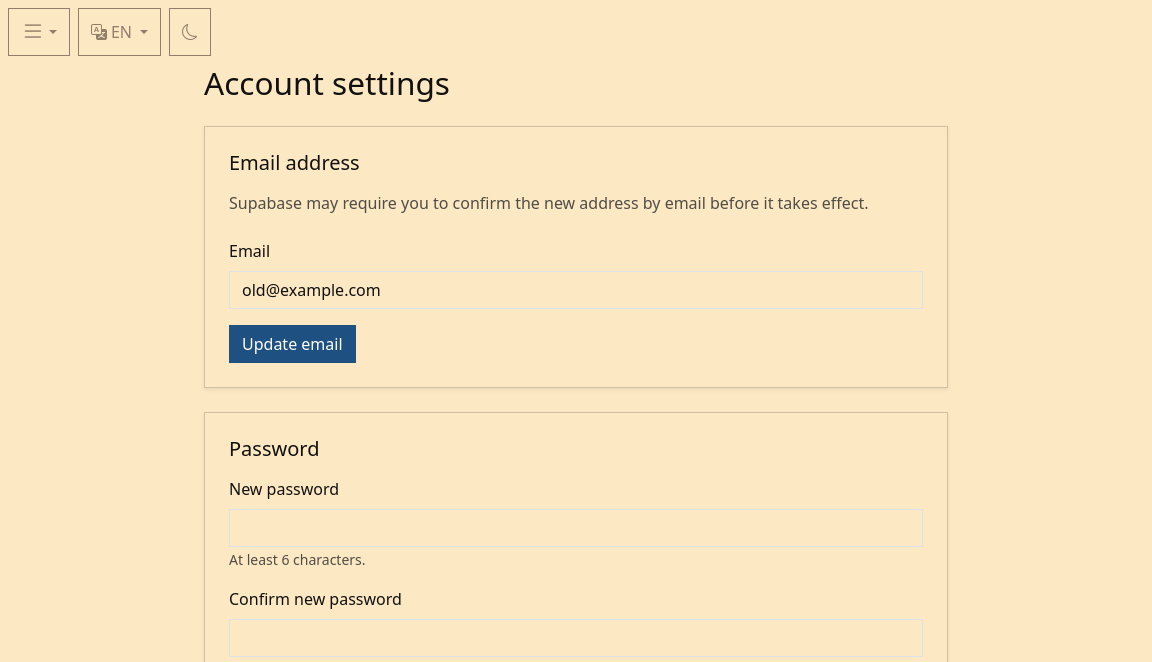
Account › does not submit an unchanged email address
Click the button "Update email": (292, 344) [229,325,356,363]
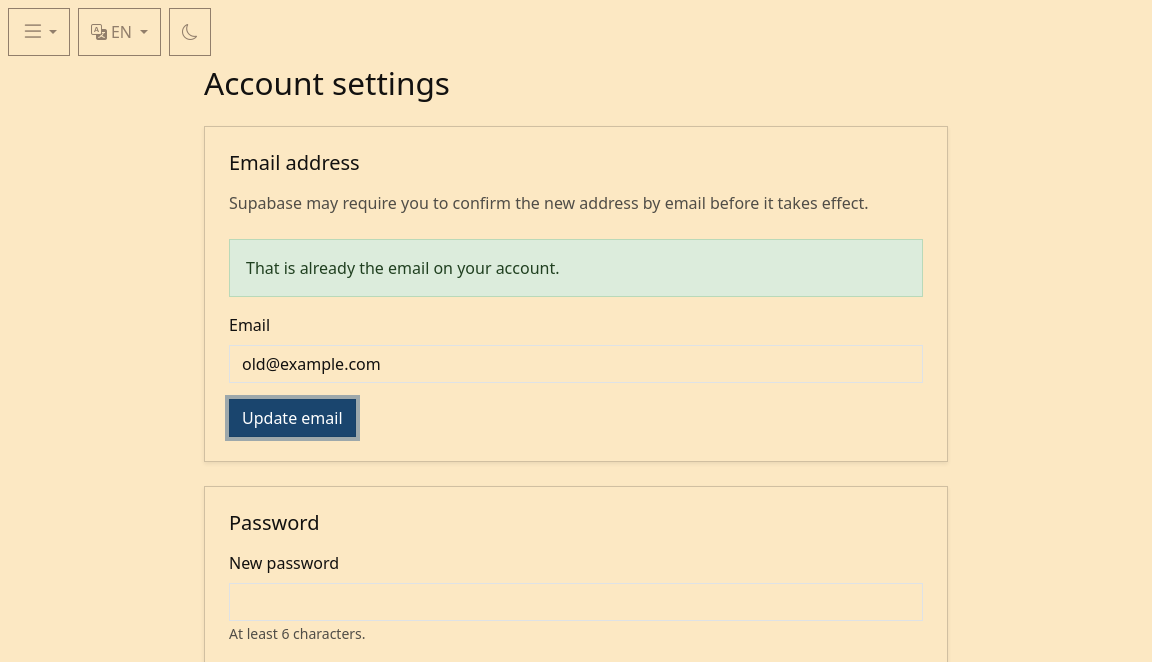
Expected: the text "That is already the email on your account." is shown, [229,239,923,297]
